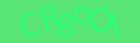8: (56, 14, 73, 37)
C: (20, 12, 40, 36)
I: (111, 14, 119, 37)
O: (89, 7, 112, 32)
R: (40, 5, 62, 31)
o: (73, 6, 91, 25)
